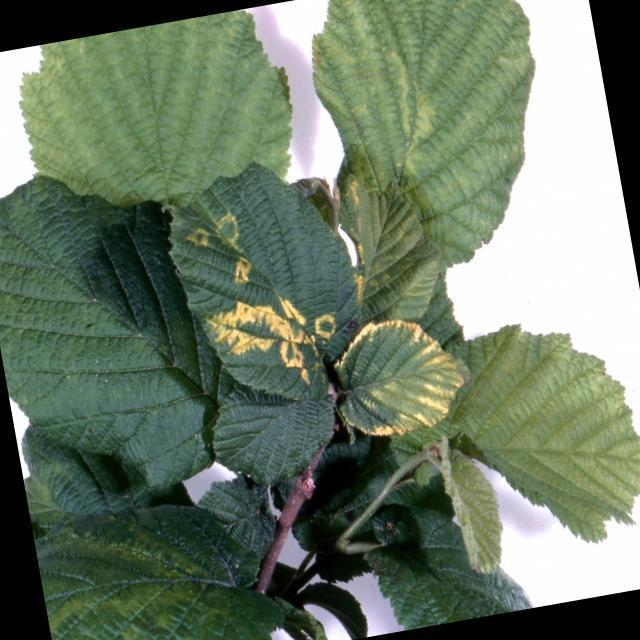Mosaic Virus: (170, 189, 346, 394), (38, 533, 245, 640), (314, 315, 474, 449)
